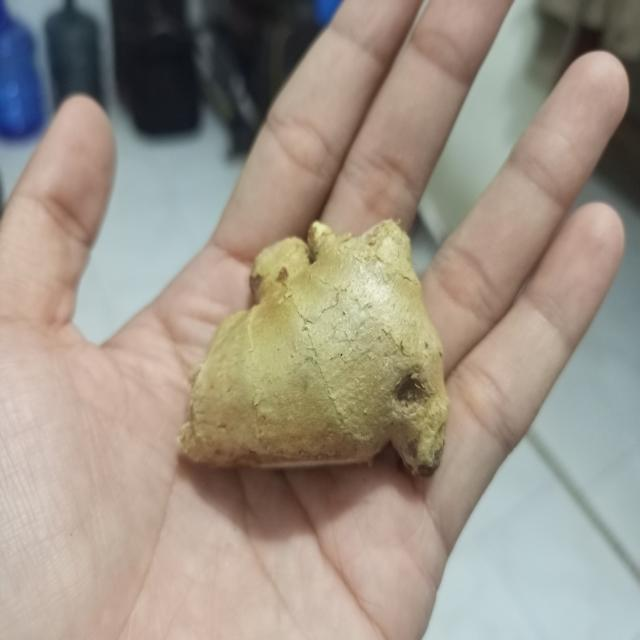ginger: (187, 222, 443, 476)
